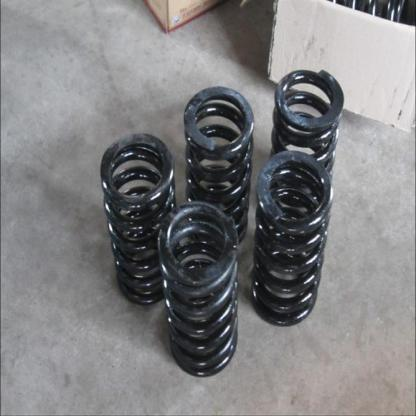FOD: (156, 200, 244, 382), (98, 133, 180, 316), (252, 152, 334, 331), (181, 85, 255, 246), (271, 64, 346, 177)
